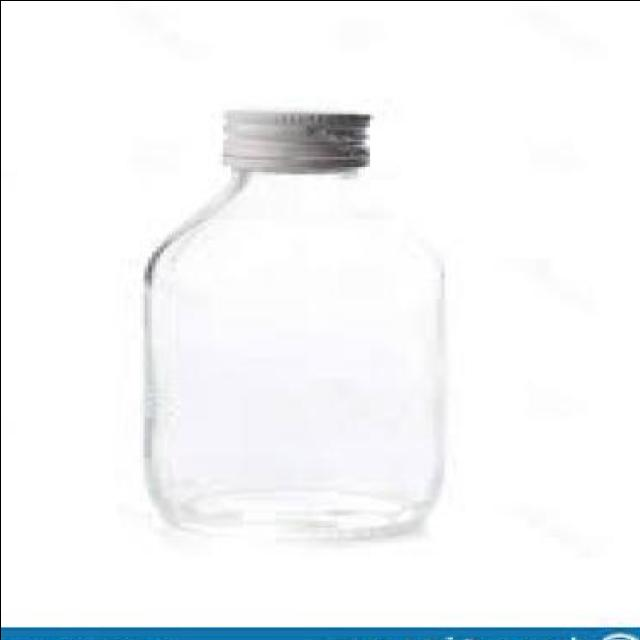kaca: (150, 166, 444, 540)
